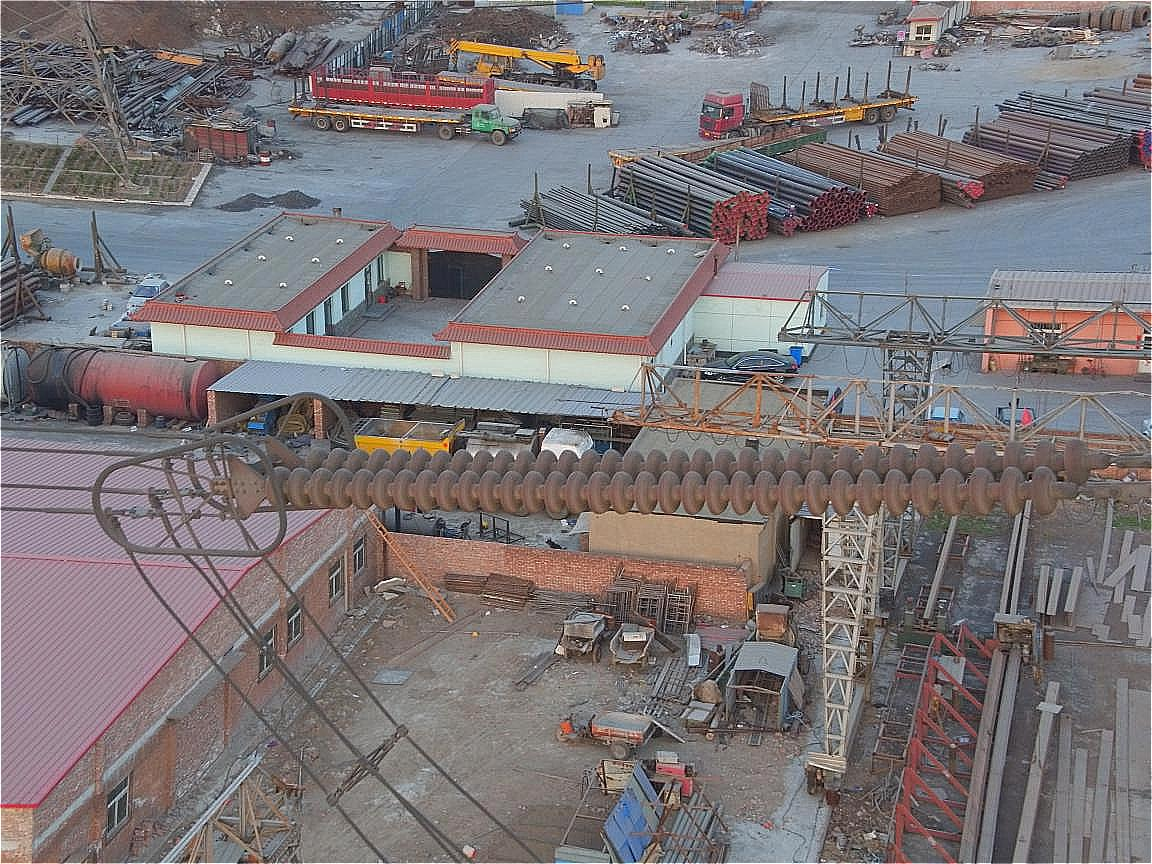insultor1: (225, 409, 1106, 555)
